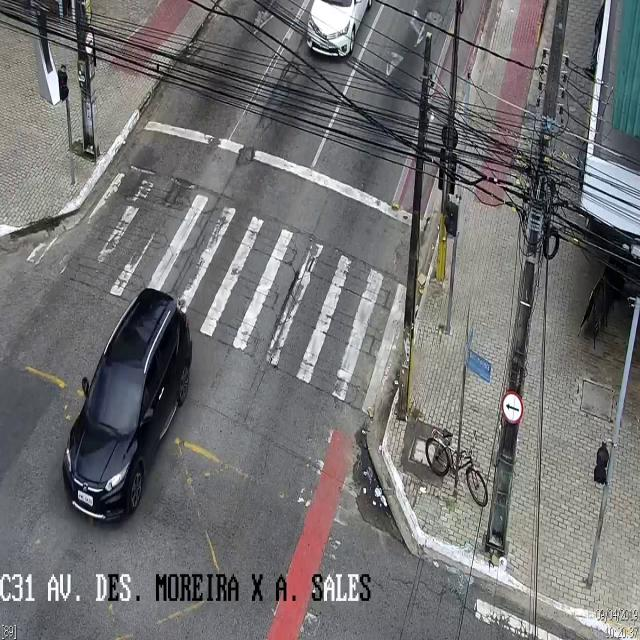Car: (61, 285, 192, 519), (306, 0, 373, 63)
